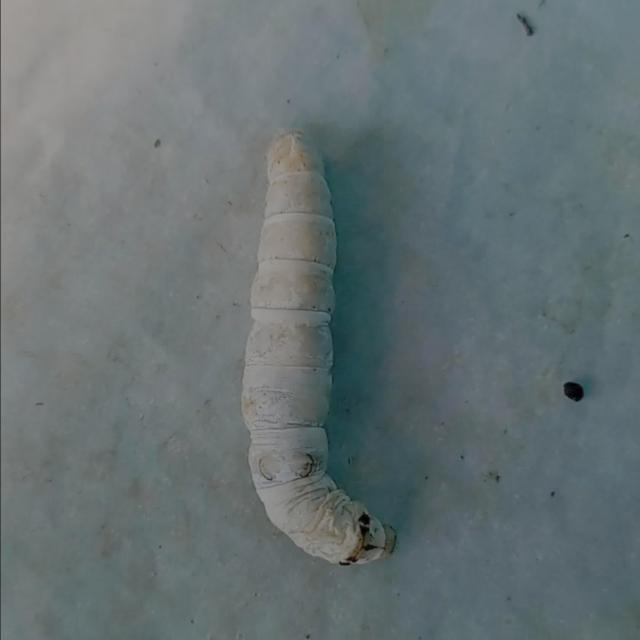Grasserie: (206, 100, 437, 588)
